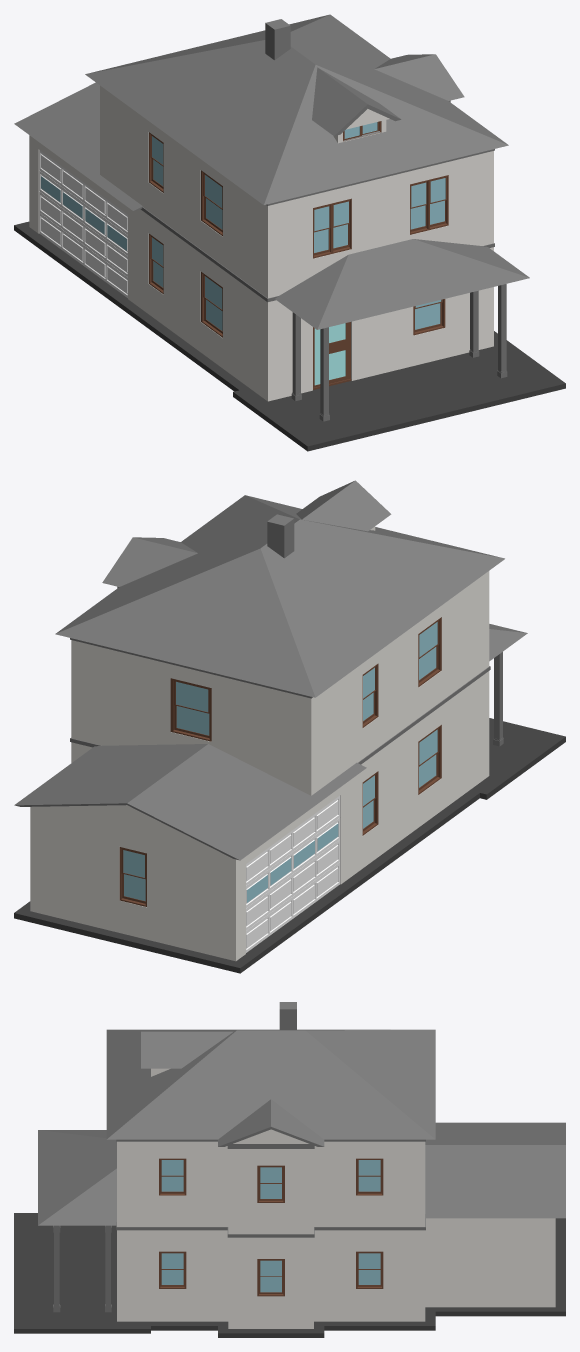
The model's file is task-7-x.obj.
The picture shows the model from 3 angles, top to bottom: view 1: azimuth 30°, elevation 25°; view 2: azimuth 150°, elevation 25°; view 3: azimuth 270°, elevation 25°; orthographic projection. The views are drawn at different scales.
Parts seen in each view (by area): view 1: wall, roof_2, ground_base, roof_0, garage_door_frame_0, roof_1, roof_3, roof_4, ledge, door_glass_0, garage_door_glass_0, chimney_0 (+12 smaller); view 2: wall, roof_2, roof_1, ground_base, garage_door_frame_0, roof_3, roof_4, window_glass_4, ledge, garage_door_glass_0, chimney_0, window_glass_15 (+6 smaller); view 3: wall, roof_2, ground_base, roof_1, roof_0, roof_3, ledge, roof_4, window_glass_5, window_glass_7, window_glass_1, window_glass_0 (+11 smaller).
Part boxes in pixels (x1,y1,x2,y2): wall: (29,85,493,401); roof_2: (85,14,508,204); ground_base: (14,221,565,451); roof_0: (275,239,529,329); garage_door_frame_0: (39,150,127,297); roof_1: (14,82,142,210); roof_3: (312,67,401,135); roof_4: (374,54,464,100); ledge: (140,100,494,302); door_glass_0: (314,323,345,385); garage_door_glass_0: (41,176,126,250); chimney_0: (265,19,290,60); wall: (30,526,489,961); roof_2: (55,495,504,697); roof_1: (14,744,366,860); ground_base: (14,718,565,973); garage_door_frame_0: (246,795,340,952); roof_3: (296,480,391,531); roof_4: (102,537,197,586); window_glass_4: (176,681,209,735); ledge: (70,586,490,764); garage_door_glass_0: (247,823,338,902); chimney_0: (267,514,294,558); window_glass_15: (123,850,145,901); wall: (117,1068,555,1328); roof_2: (106,1029,435,1139); ground_base: (14,1213,565,1337); roof_1: (425,1122,565,1218); roof_0: (38,1130,116,1225); roof_3: (141,1031,233,1068); ledge: (116,1139,425,1237); roof_4: (218,1099,324,1146); window_glass_5: (358,1160,380,1191); window_glass_7: (161,1160,183,1191); window_glass_1: (260,1260,281,1292); window_glass_0: (358,1253,380,1284).
Size of the model in its own units: 8.3 by 8.55 by 16.1.
